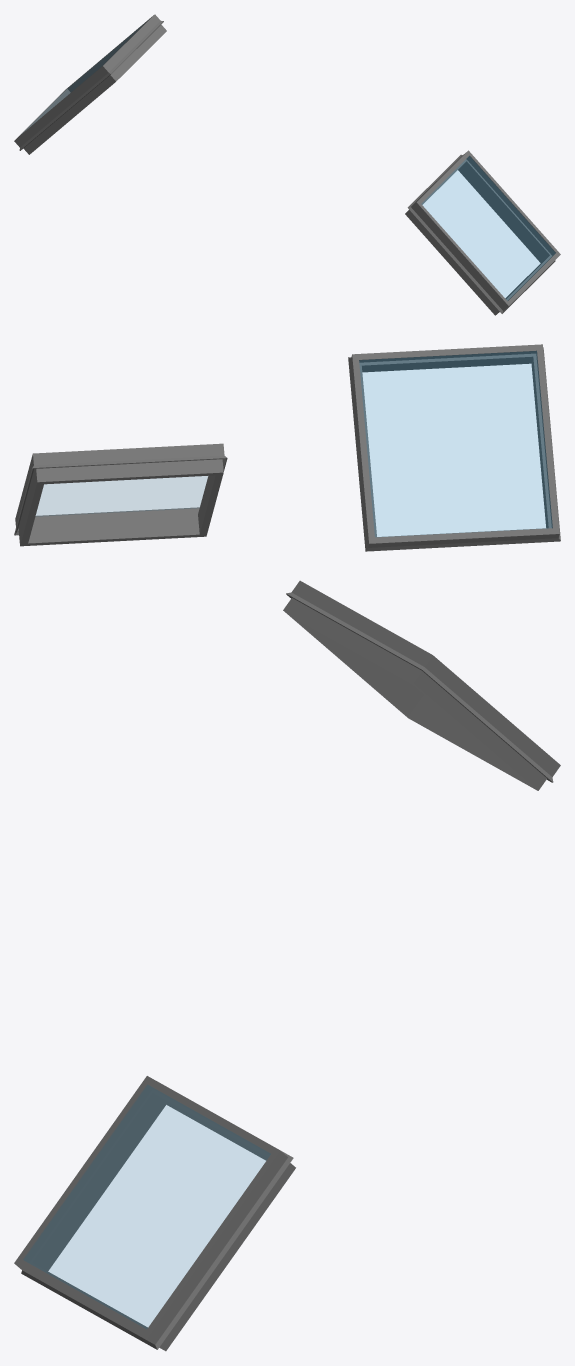
File: rac_basic_sample_project_Roof_Line_IfcWindow.dae
3 renders of one model, top to bottom at view 1: azimuth 30°, elevation 25°; view 2: azimuth 150°, elevation 25°; view 3: azimuth 270°, elevation 25°, orthographic. The views are drawn at different scales.
Parts seen in each view (by area): view 1: 12QTT5rufCoeOFfLiN06FB, 12QTT5rufCoeOFfLiN060S; view 2: 12QTT5rufCoeOFfLiN060S, 12QTT5rufCoeOFfLiN06FB; view 3: 12QTT5rufCoeOFfLiN06FB, 12QTT5rufCoeOFfLiN060S.
Boxes of the visible parts, x1,y1,x2,y2 form: 12QTT5rufCoeOFfLiN06FB: (405,150,560,315); 12QTT5rufCoeOFfLiN060S: (14,14,166,154); 12QTT5rufCoeOFfLiN060S: (348,344,560,551); 12QTT5rufCoeOFfLiN06FB: (14,443,227,546); 12QTT5rufCoeOFfLiN06FB: (14,1076,295,1351); 12QTT5rufCoeOFfLiN060S: (283,580,560,790).
Bounding box in the file's own units: 4.58 × 2.83 × 2.54.
